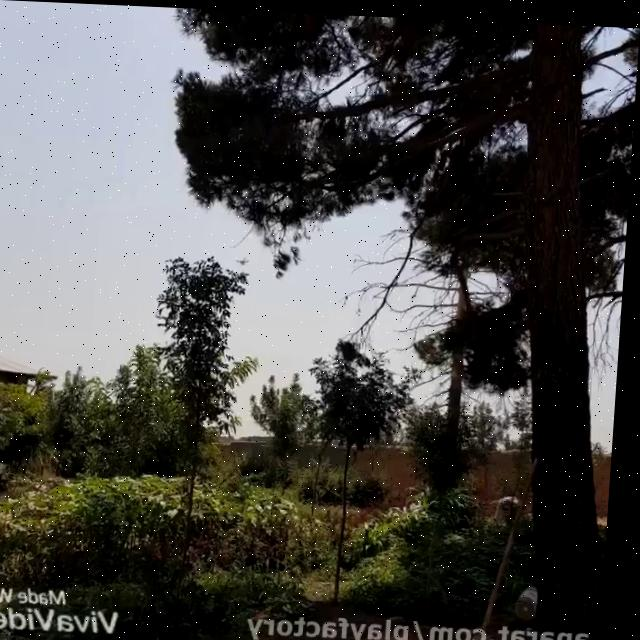drone: (236, 247, 258, 269)
